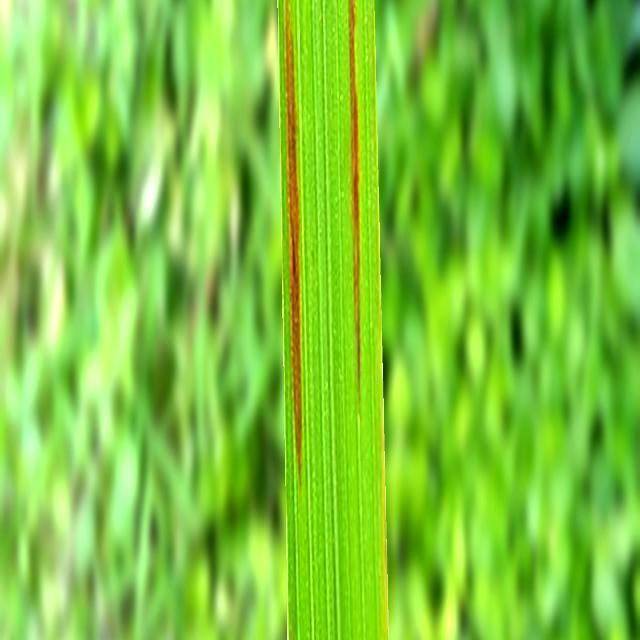NBS: (285, 0, 302, 477), (350, 0, 360, 400)
